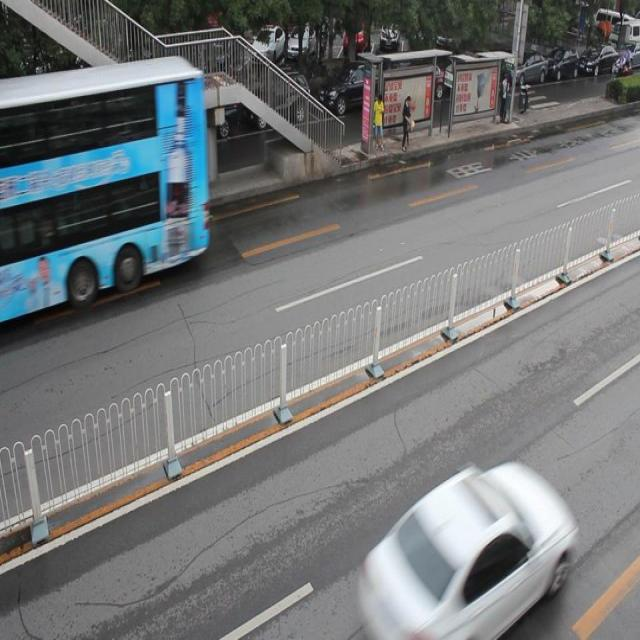car: (356, 457, 576, 627), (49, 105, 136, 172), (143, 92, 236, 146), (136, 109, 203, 183), (314, 61, 390, 120), (241, 72, 309, 131), (1, 126, 36, 181)
van: (1, 54, 207, 324)
